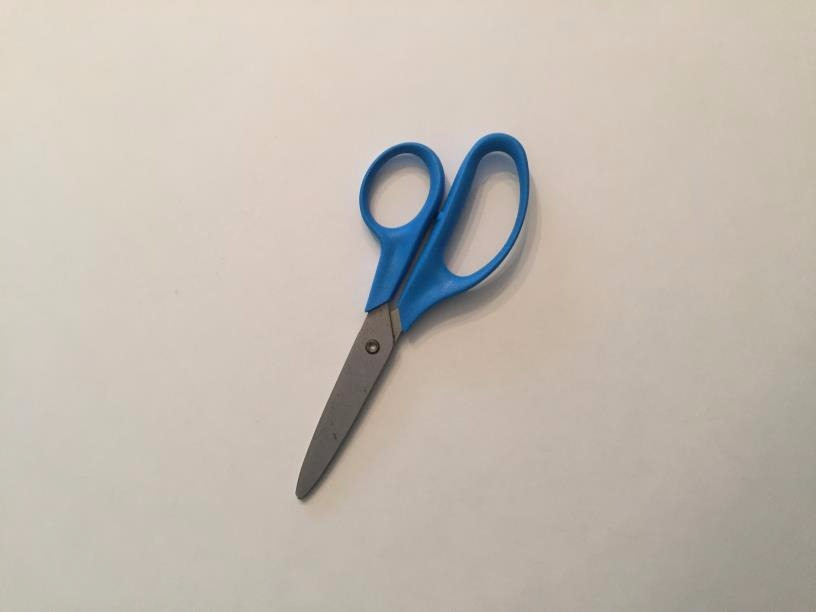scissor: (257, 110, 571, 530)
